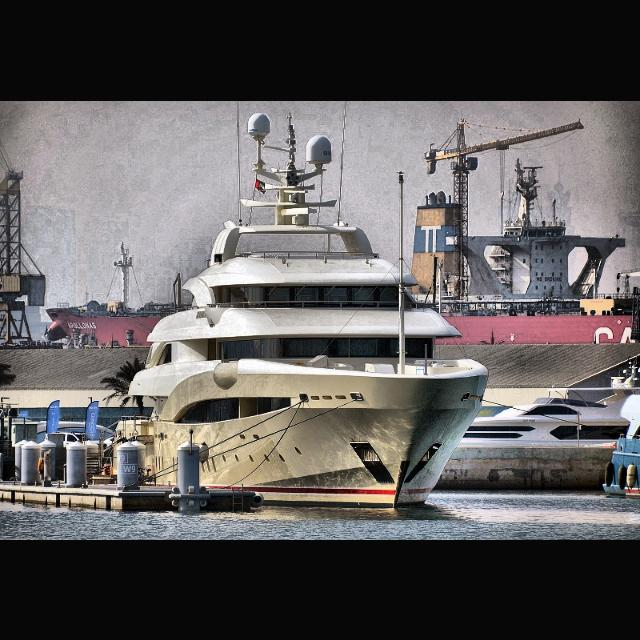yacht: (107, 109, 491, 511)
